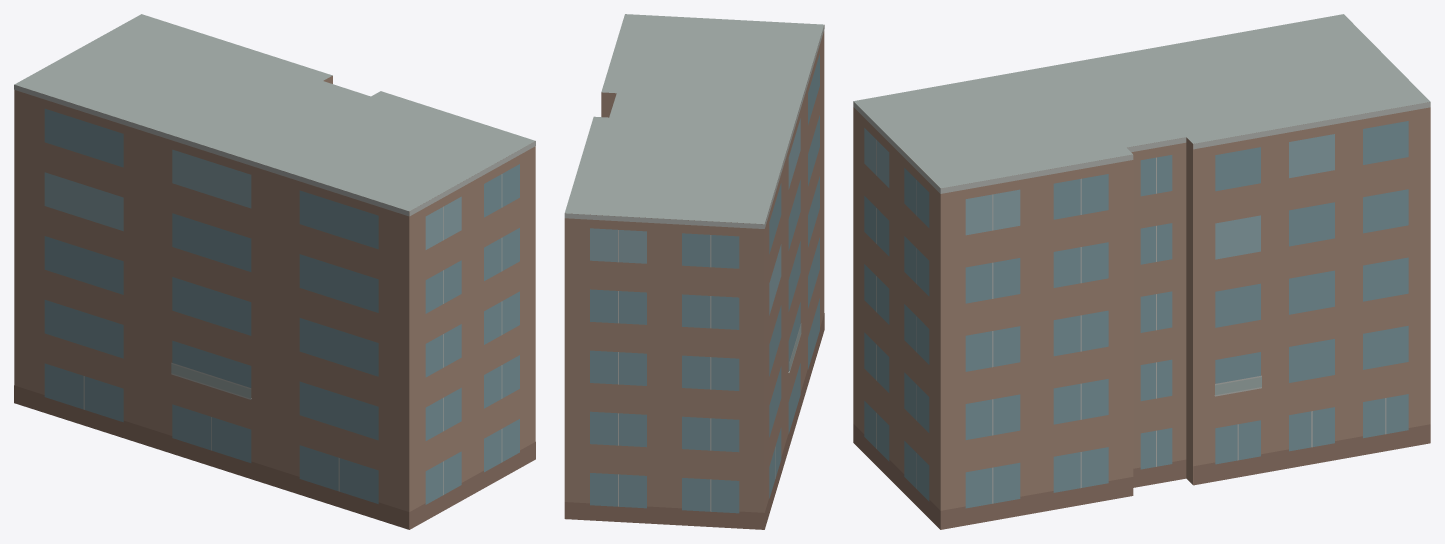
Rendered from survey-upis-32684544.glb.
The picture shows the model from 3 angles, left to right: view 1: azimuth 30°, elevation 25°; view 2: azimuth 150°, elevation 25°; view 3: azimuth 270°, elevation 25°; orthographic projection. The views are drawn at different scales.
Visible parts, largest first — view 1: survey-upis-32684544.tmp; view 2: survey-upis-32684544.tmp; view 3: survey-upis-32684544.tmp.
Boxes of the visible parts, x1,y1,x2,y2 form: survey-upis-32684544.tmp: (14,14,535,529); survey-upis-32684544.tmp: (564,14,824,529); survey-upis-32684544.tmp: (853,14,1430,529).
Size of the model in its own units: 16.67 by 15.2 by 23.3.
